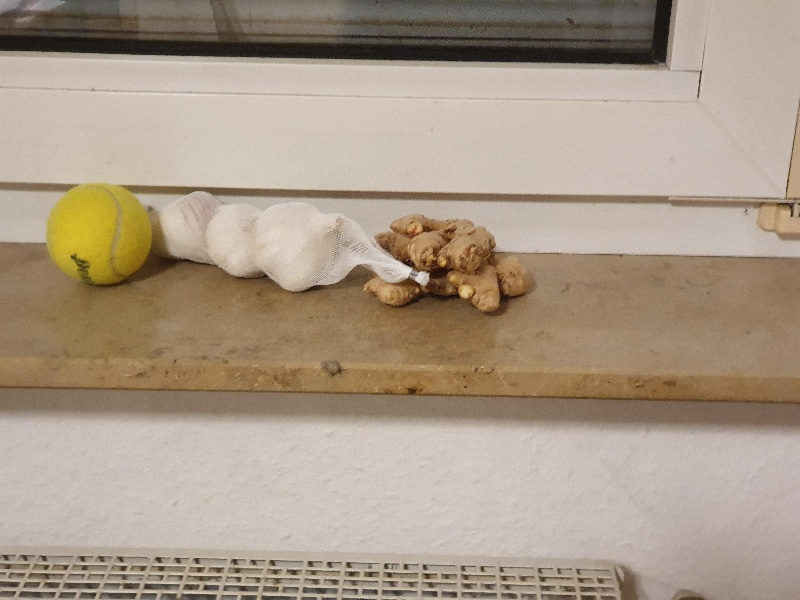Tennisball: (33, 180, 166, 295)
